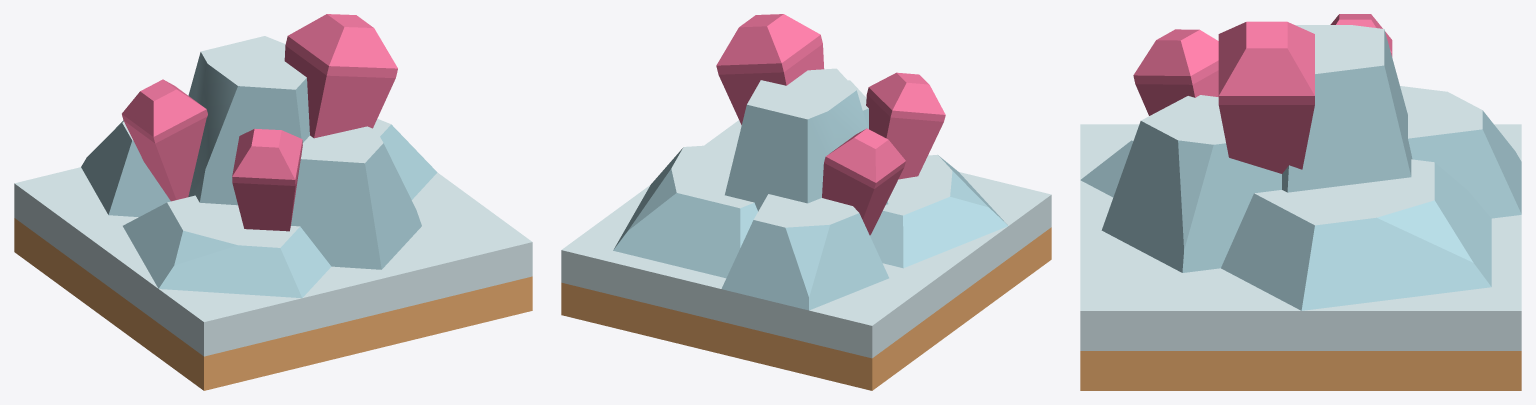
Rendered from snow_tile_crystal.obj.
The picture shows the model from 3 angles, left to right: view 1: azimuth 30°, elevation 25°; view 2: azimuth 150°, elevation 25°; view 3: azimuth 270°, elevation 25°; orthographic projection. The views are drawn at different scales.
Visible parts, largest first — view 1: snow_tile_crystal, rocks, crystal; view 2: rocks, snow_tile_crystal, crystal; view 3: rocks, snow_tile_crystal, crystal.
Boxes of the visible parts, left/top/right/bottom form: snow_tile_crystal: left=14, top=167, right=532, bottom=390; rocks: left=81, top=36, right=437, bottom=298; crystal: left=122, top=14, right=397, bottom=231; rocks: left=613, top=68, right=1007, bottom=310; snow_tile_crystal: left=561, top=120, right=1051, bottom=390; crystal: left=716, top=14, right=945, bottom=235; rocks: left=1080, top=25, right=1521, bottom=310; snow_tile_crystal: left=1080, top=124, right=1521, bottom=390; crystal: left=1133, top=14, right=1392, bottom=173.
Bounding box in the file's own units: 1 × 0.7565 × 1.
